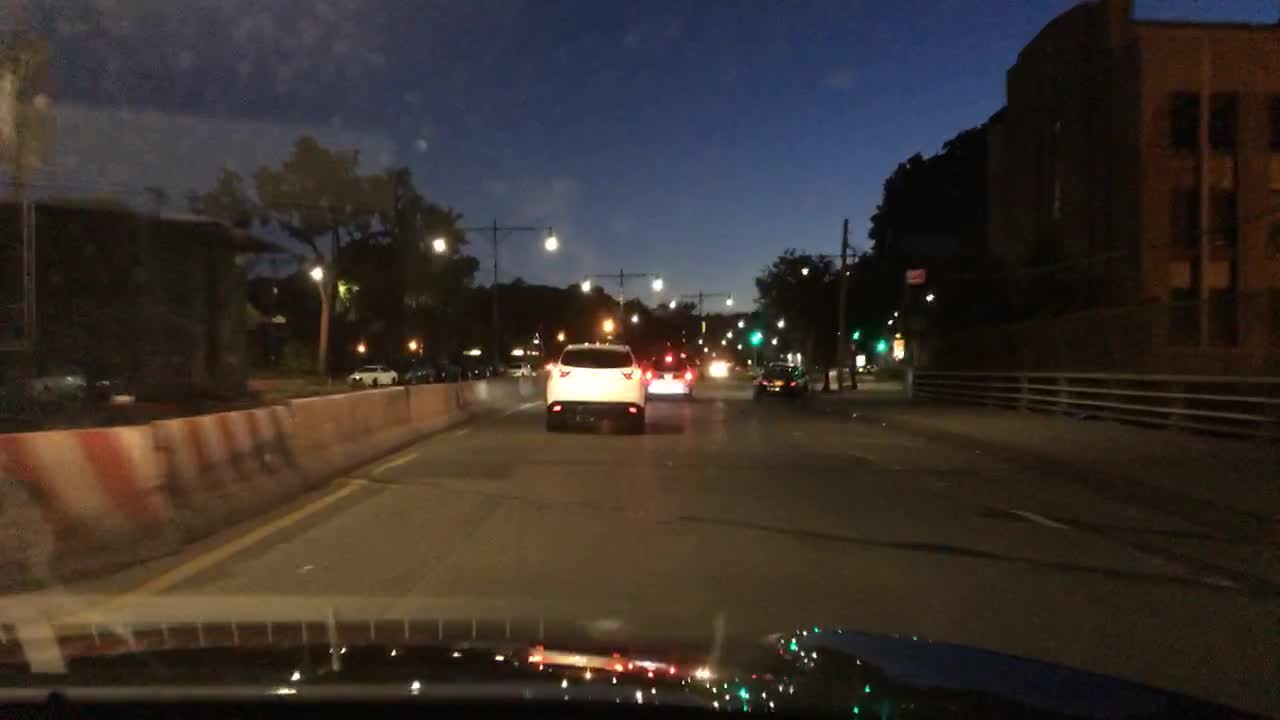car: (544, 339, 648, 435), (29, 357, 88, 399), (747, 361, 809, 400), (643, 354, 695, 400), (83, 359, 130, 400), (0, 349, 34, 404), (399, 358, 447, 385), (344, 364, 398, 387), (699, 356, 737, 379), (446, 361, 473, 381), (530, 358, 554, 377), (472, 361, 496, 379), (504, 362, 530, 375), (680, 352, 701, 367)
traffic light: (751, 331, 761, 346), (876, 340, 887, 352)
traffic sign: (906, 269, 925, 284)
